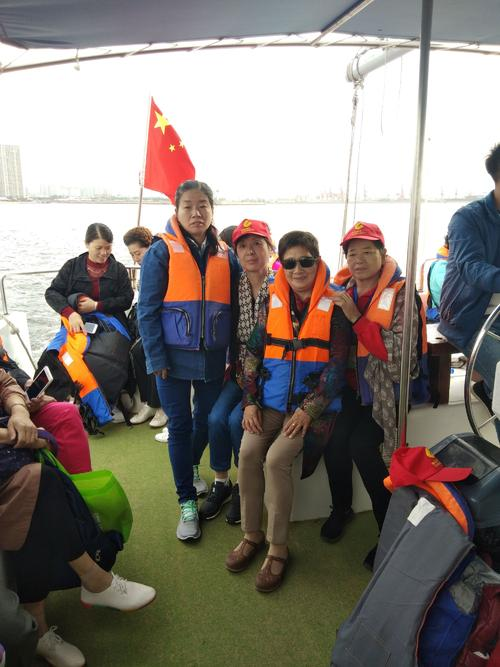other_clothes: (443, 193, 500, 317), (53, 251, 125, 339), (234, 261, 276, 359)
reflective_clothes: (258, 270, 338, 423), (153, 225, 235, 374), (334, 260, 414, 390)
